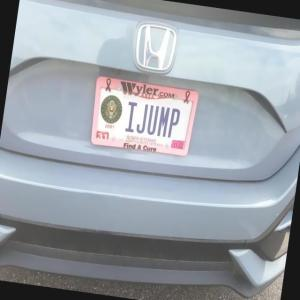Plate: (89, 75, 199, 157)
